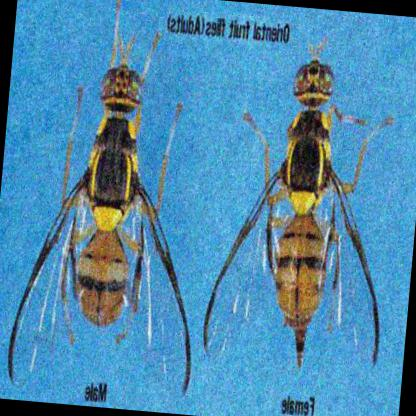fruit fly: (8, 33, 190, 403), (201, 64, 390, 368)
